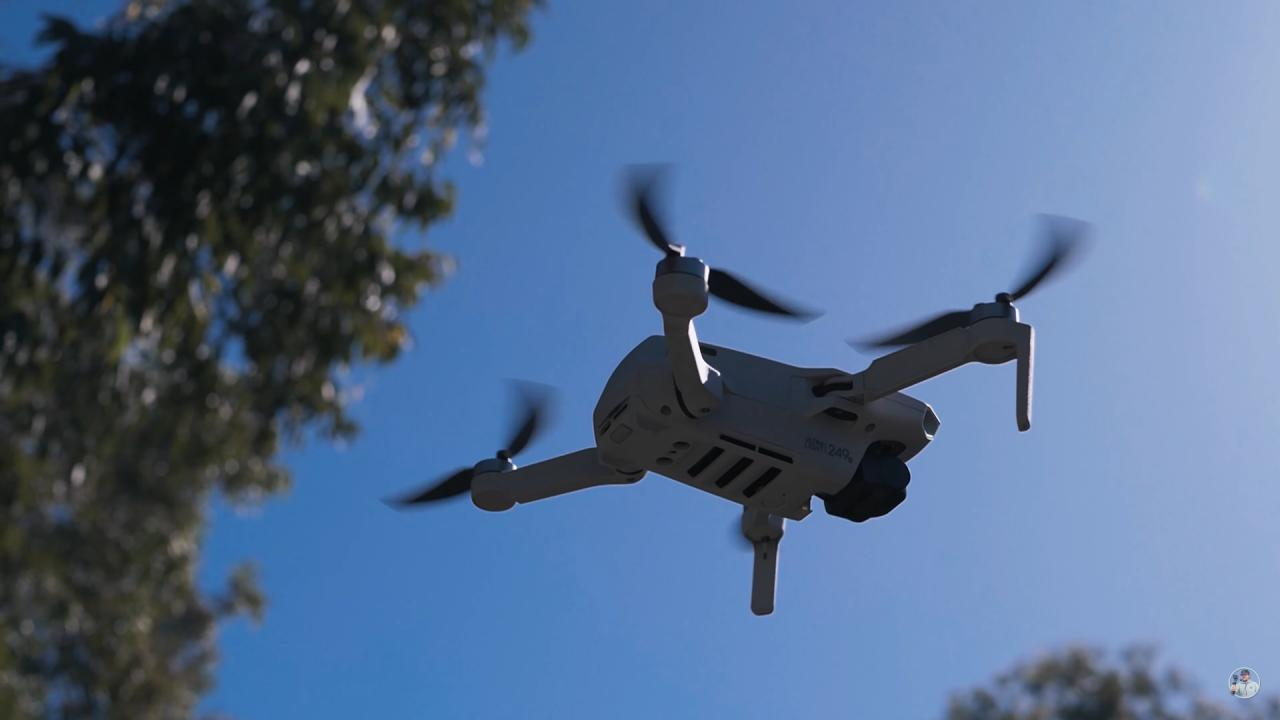Drone: (357, 136, 1124, 638)
